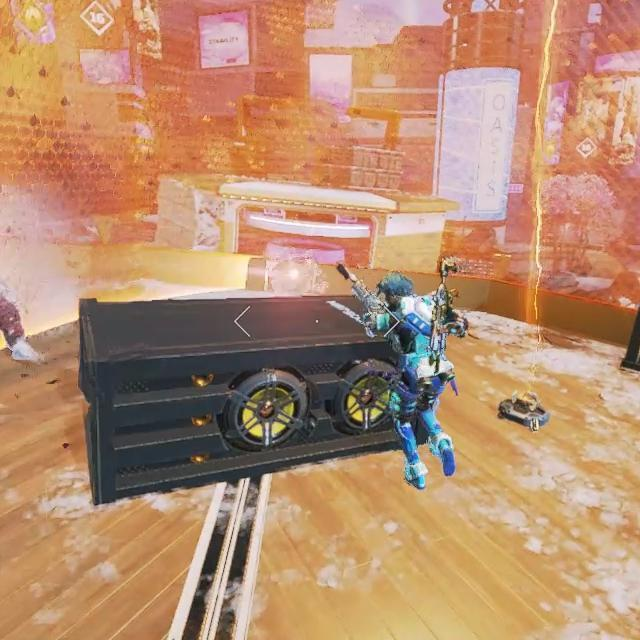avatar: (372, 272, 455, 487)
